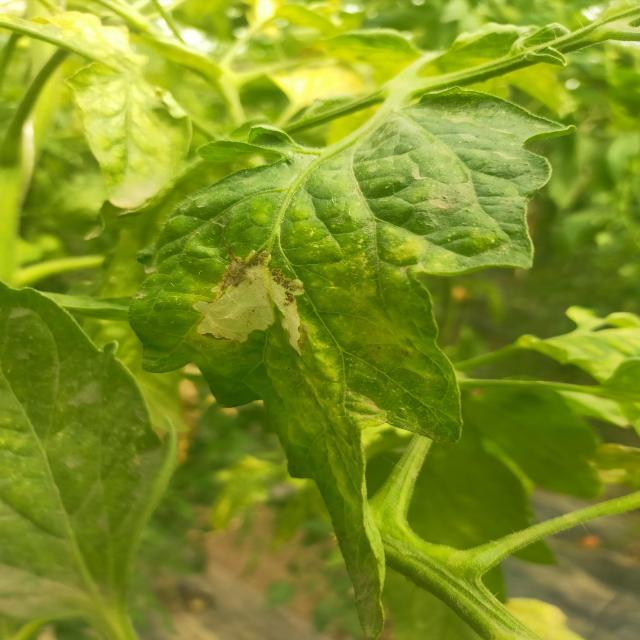Tuta absoluta: (188, 239, 320, 355)
